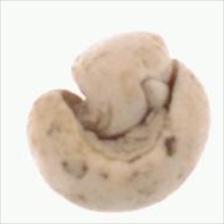L3: (57, 33, 180, 160)
L4: (27, 32, 211, 212)
